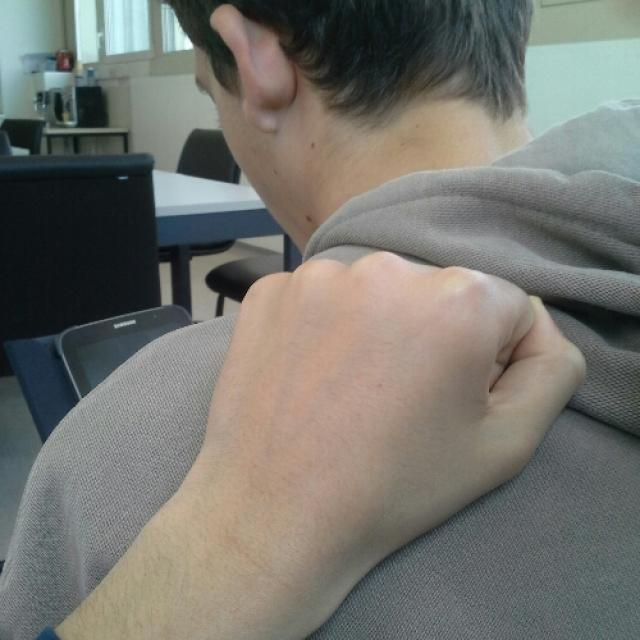rock: (205, 251, 586, 524)
